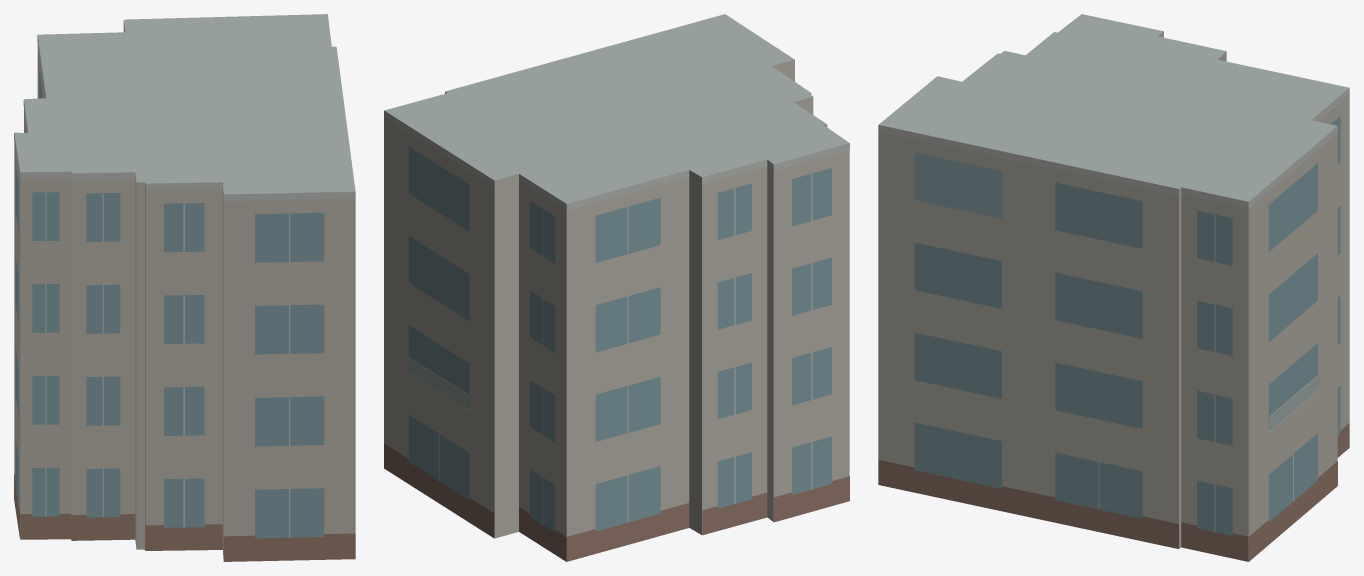
File: survey-upis-32962913.glb
3 views of the same model, side by side, from view 1: azimuth 30°, elevation 25°; view 2: azimuth 150°, elevation 25°; view 3: azimuth 270°, elevation 25° (orthographic). The views are drawn at different scales.
Visible parts, largest first — view 1: survey-upis-32962913.tmp; view 2: survey-upis-32962913.tmp; view 3: survey-upis-32962913.tmp.
Boxes of the visible parts, bbox=[...] form: survey-upis-32962913.tmp: bbox=[14, 14, 355, 561]; survey-upis-32962913.tmp: bbox=[384, 14, 849, 561]; survey-upis-32962913.tmp: bbox=[878, 14, 1349, 561].
Size of the model in its own units: 14.46 by 12.92 by 15.33.
